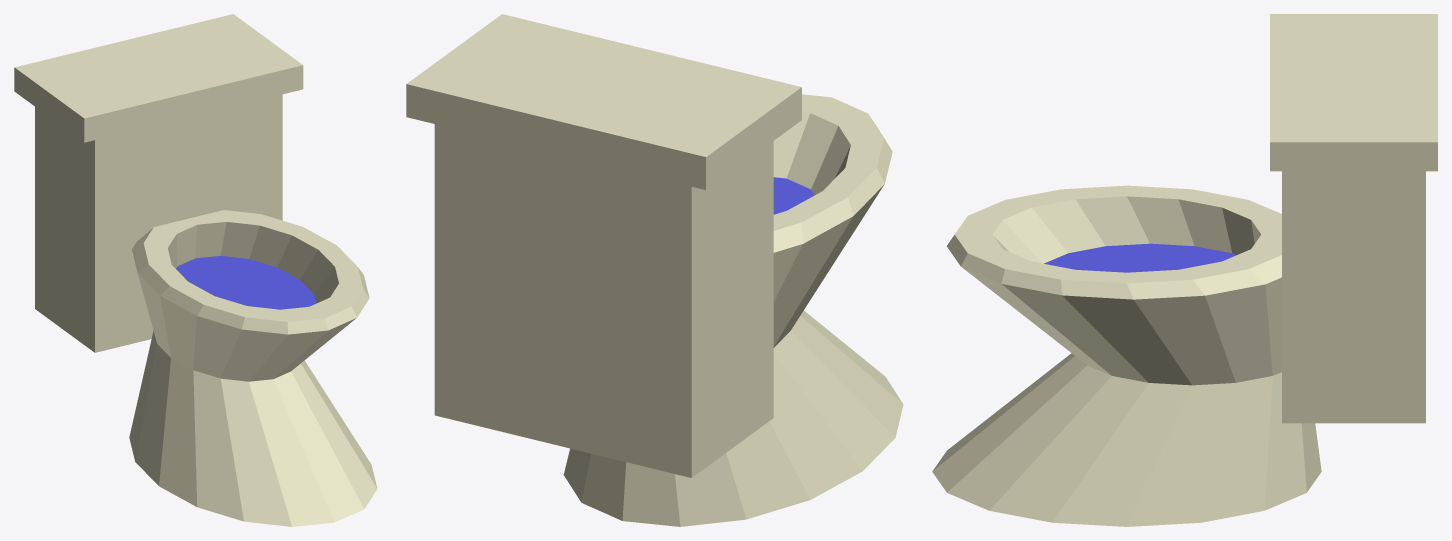
Rendered from Toilet.glb.
3 renders of one model, left to right at view 1: azimuth 30°, elevation 25°; view 2: azimuth 150°, elevation 25°; view 3: azimuth 270°, elevation 25°, orthographic. The views are drawn at different scales.
Parts seen in each view (by area): view 1: Cylinder; view 2: Cylinder; view 3: Cylinder.
Boxes of the visible parts, x1=… form: Cylinder: x1=14, y1=14, x2=377, y2=526; Cylinder: x1=406, y1=14, x2=903, y2=526; Cylinder: x1=932, y1=14, x2=1437, y2=526.
Size of the model in its own units: 1.33 by 1.9 by 2.21.
